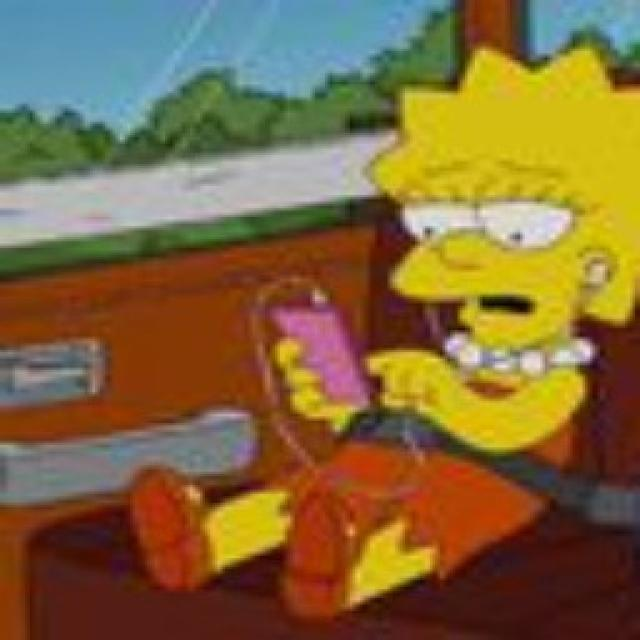Lisa Simpson: (360, 40, 640, 350)
